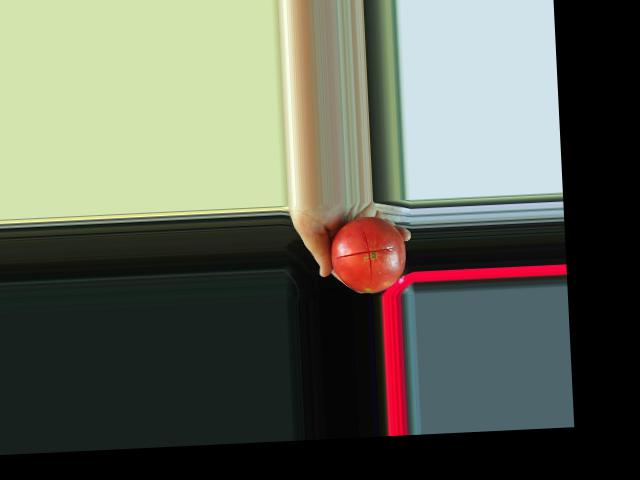tomato: (329, 214, 408, 294)
